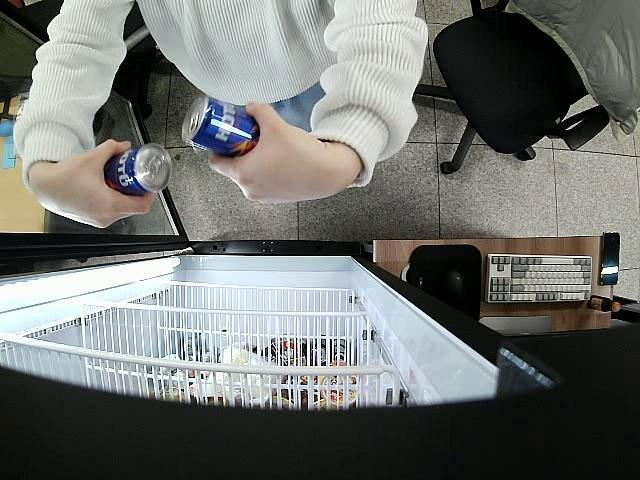16_hot6: (183, 98, 260, 156), (103, 144, 174, 196)
